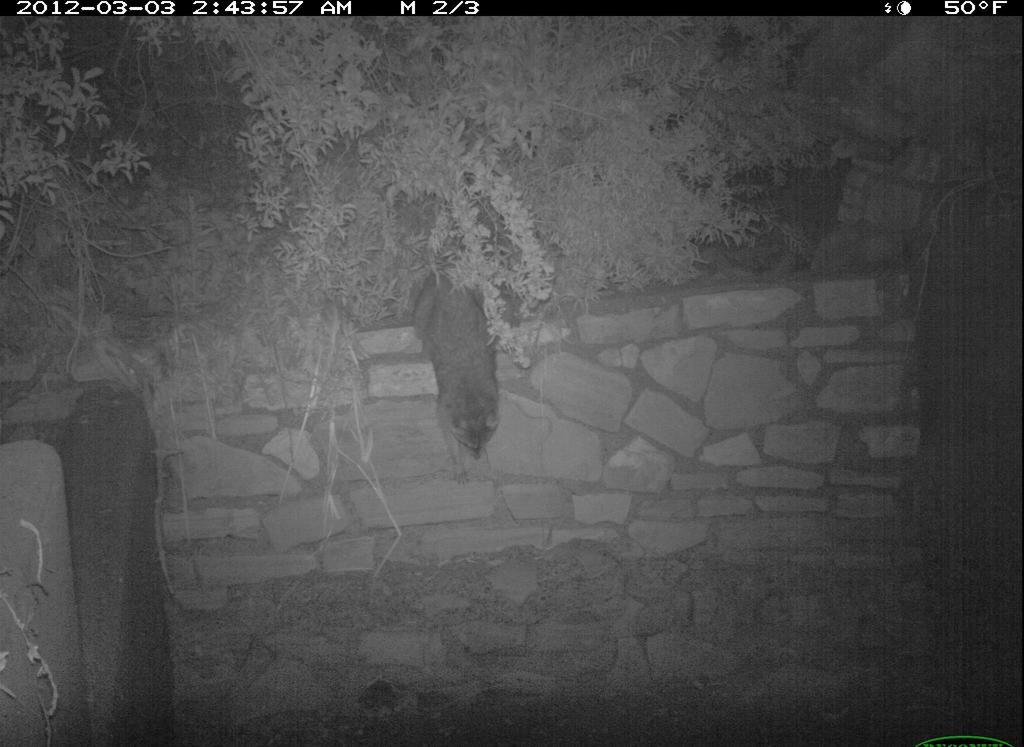raccoon: (391, 265, 520, 487)
